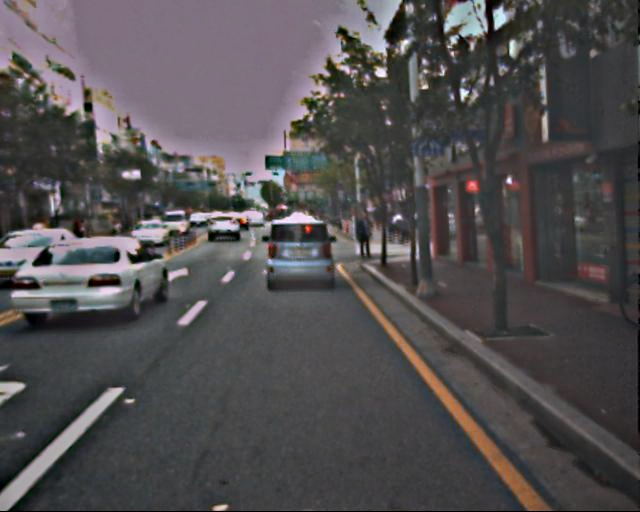person: (354, 209, 374, 258), (388, 213, 412, 244)
